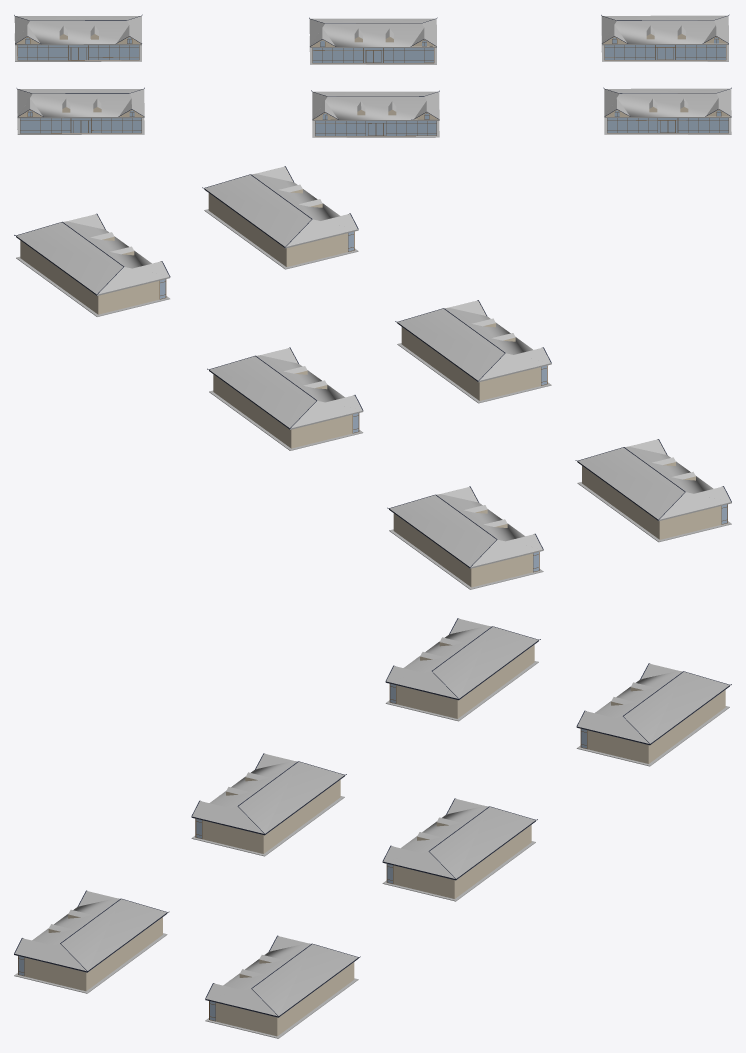
Rendered from xiaoqu6.gltf.
The picture shows the model from 3 angles, top to bottom: view 1: azimuth 30°, elevation 25°; view 2: azimuth 150°, elevation 25°; view 3: azimuth 270°, elevation 25°; orthographic projection. The views are drawn at different scales.
Parts seen in each view (by area): view 1: dx158, dx157, dx160, dx159, dx155, dx156; view 2: dx156, dx159, dx160, dx158, dx157, dx155; view 3: dx159, dx156, dx158, dx157, dx155, dx160.
Boxes of the visible parts, x1=… form: dx158: x1=311, y1=90, x2=439, y2=137; dx157: x1=309, y1=17, x2=437, y2=64; dx160: x1=603, y1=87, x2=731, y2=134; dx159: x1=601, y1=14, x2=729, y2=61; dx155: x1=16, y1=87, x2=144, y2=134; dx156: x1=14, y1=14, x2=142, y2=61; dx156: x1=387, y1=486, x2=543, y2=589; dx159: x1=14, y1=213, x2=170, y2=316; dx160: x1=202, y1=166, x2=358, y2=269; dx158: x1=395, y1=300, x2=551, y2=403; dx157: x1=207, y1=347, x2=363, y2=450; dx155: x1=575, y1=439, x2=731, y2=542; dx159: x1=205, y1=935, x2=360, y2=1038; dx156: x1=576, y1=663, x2=731, y2=766; dx158: x1=191, y1=753, x2=346, y2=856; dx157: x1=382, y1=798, x2=537, y2=901; dx155: x1=385, y1=618, x2=540, y2=721; dx160: x1=14, y1=890, x2=169, y2=993.
Bounding box in the file's own units: 1578 × 64.12 × 1212.
